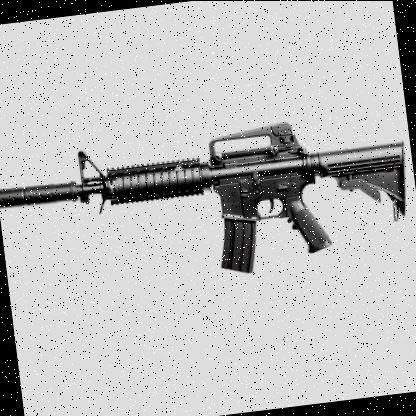rifle: (0, 100, 415, 318)
